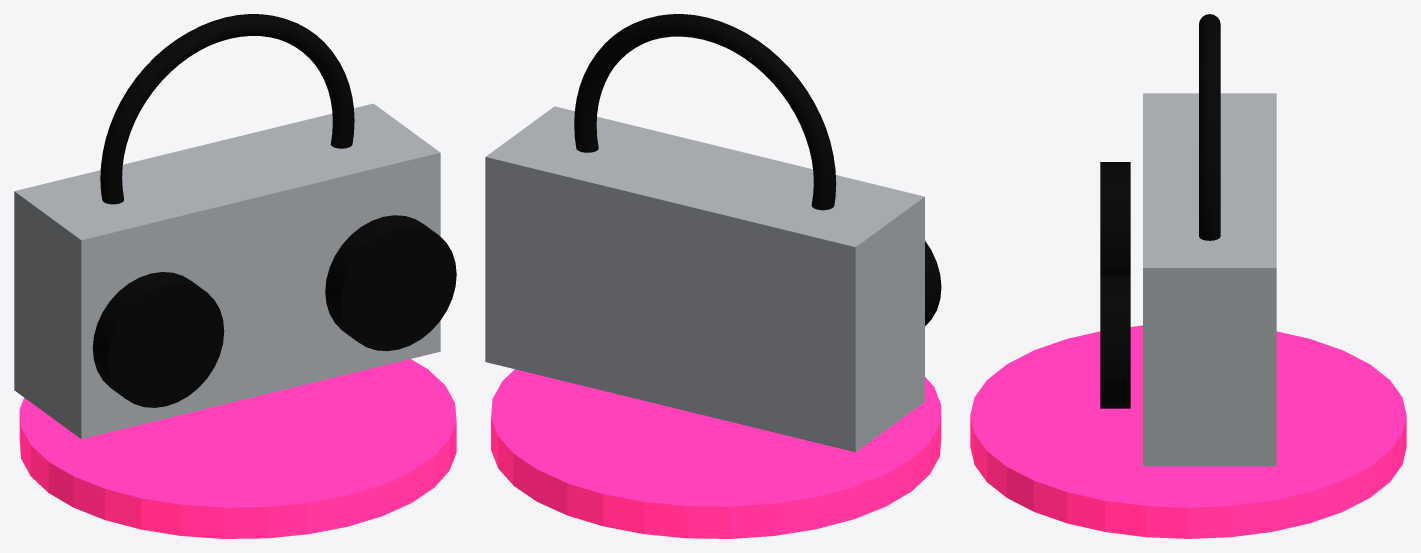
Rendered from music_boombox.dae.
3 renders of one model, left to right at view 1: azimuth 30°, elevation 25°; view 2: azimuth 150°, elevation 25°; view 3: azimuth 270°, elevation 25°, orthographic. The views are drawn at different scales.
Parts seen in each view (by area): view 1: 07_08_Popular_Music_Boombox_part_01, 07_08_Popular_Music_Boombox_ROOT_base, 07_08_Popular_Music_Boombox_part_03, 07_08_Popular_Music_Boombox_part_02, 07_08_Popular_Music_Boombox_part_04; view 2: 07_08_Popular_Music_Boombox_part_01, 07_08_Popular_Music_Boombox_ROOT_base, 07_08_Popular_Music_Boombox_part_04, 07_08_Popular_Music_Boombox_part_02; view 3: 07_08_Popular_Music_Boombox_ROOT_base, 07_08_Popular_Music_Boombox_part_01, 07_08_Popular_Music_Boombox_part_04, 07_08_Popular_Music_Boombox_part_03, 07_08_Popular_Music_Boombox_part_02.
Boxes of the visible parts, x1,y1,x2,y2 form: 07_08_Popular_Music_Boombox_part_01: (14, 103, 440, 439); 07_08_Popular_Music_Boombox_ROOT_base: (19, 359, 456, 538); 07_08_Popular_Music_Boombox_part_03: (325, 215, 456, 351); 07_08_Popular_Music_Boombox_part_02: (92, 272, 224, 407); 07_08_Popular_Music_Boombox_part_04: (100, 14, 354, 204); 07_08_Popular_Music_Boombox_part_01: (485, 106, 924, 452); 07_08_Popular_Music_Boombox_ROOT_base: (491, 369, 941, 538); 07_08_Popular_Music_Boombox_part_04: (574, 14, 836, 210); 07_08_Popular_Music_Boombox_part_02: (925, 241, 941, 325); 07_08_Popular_Music_Boombox_ROOT_base: (970, 325, 1406, 538); 07_08_Popular_Music_Boombox_part_01: (1143, 93, 1276, 466); 07_08_Popular_Music_Boombox_part_04: (1199, 14, 1220, 240); 07_08_Popular_Music_Boombox_part_03: (1100, 275, 1130, 408); 07_08_Popular_Music_Boombox_part_02: (1100, 162, 1130, 274).
Size of the model in its own units: 0.76 by 0.8055 by 0.76.
